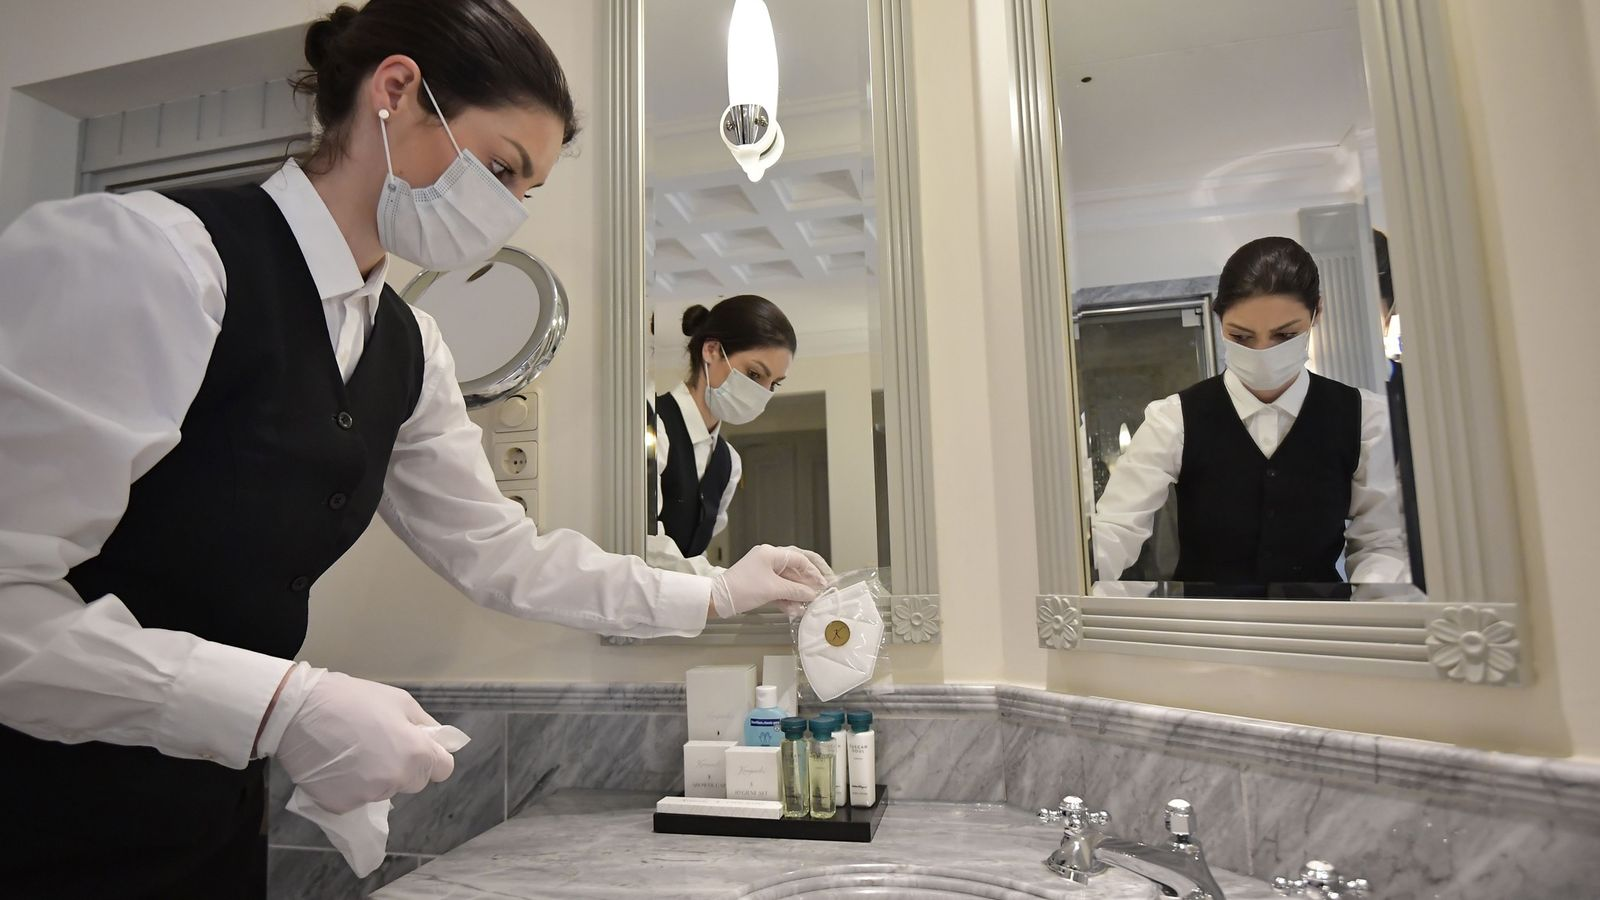with_mask: (305, 4, 573, 280), (1205, 254, 1330, 401), (673, 297, 805, 432)
